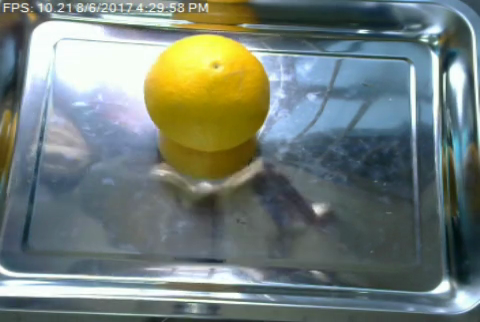Orange: (143, 33, 268, 152)
